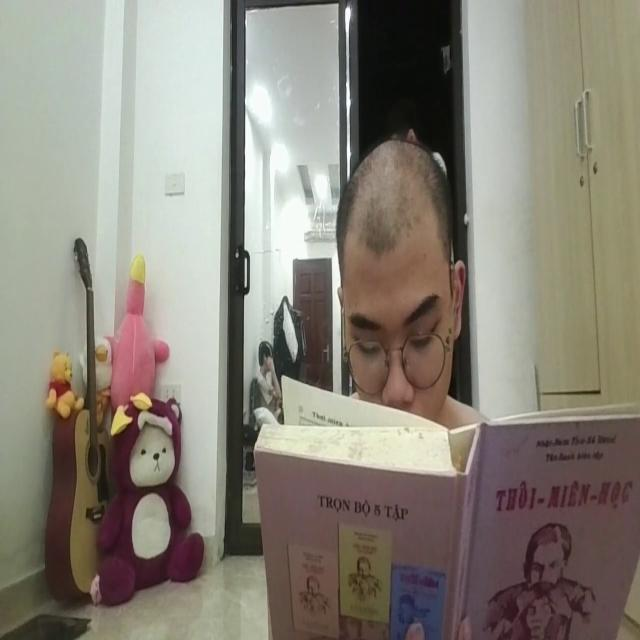book: (249, 366, 640, 640)
extra_person: (252, 333, 282, 431)
student: (331, 138, 466, 415)
